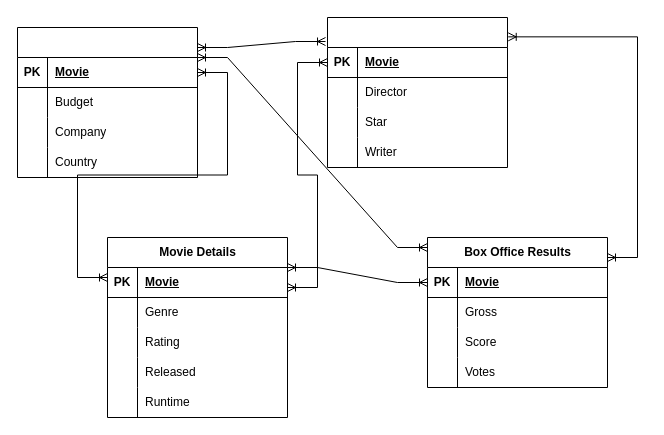
This 664x435 diagram has some shape labels left out. The box of each missing label's shape, as (x1, y1, x2, y2) in pixels:
Movie People: (326, 16, 508, 168)
Movie Production: (16, 26, 198, 178)
